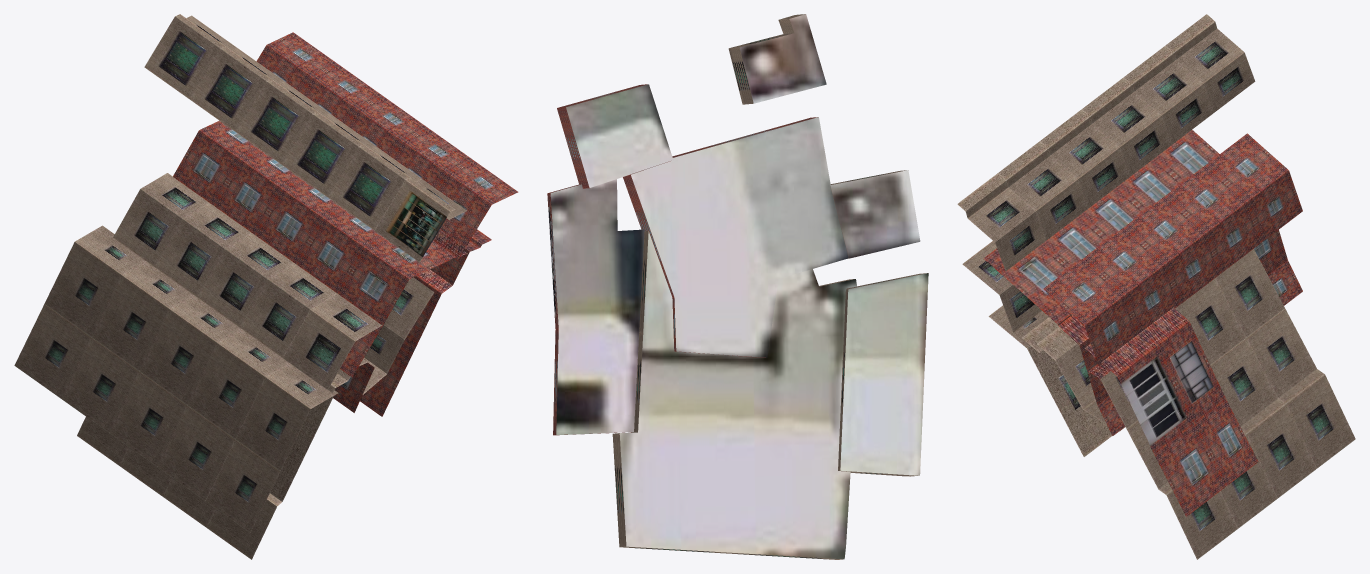
3 renders of one model, left to right at view 1: azimuth 30°, elevation 25°; view 2: azimuth 150°, elevation 25°; view 3: azimuth 270°, elevation 25°, orthographic. The views are drawn at different scales.
Bounding box in the file's own units: 27.63 × 33.14 × 24.92.
Materials: 22 (22 with a texture image).
